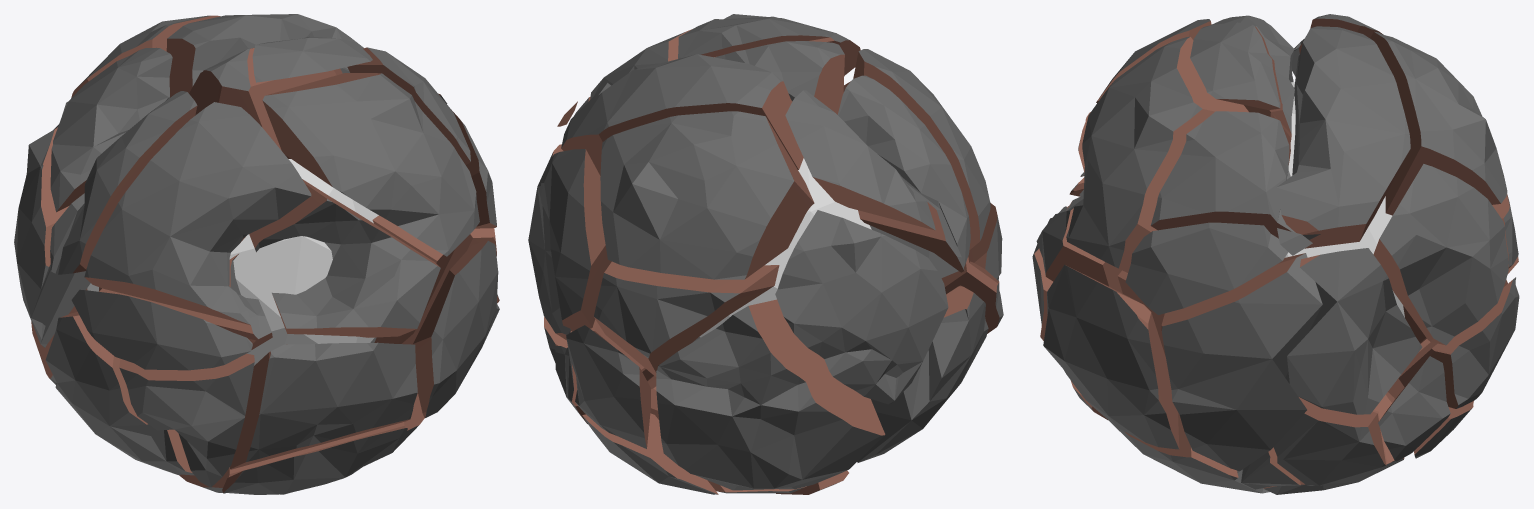
File: BreakingPlalet.dae
3 views of the same model, side by side, from view 1: azimuth 30°, elevation 25°; view 2: azimuth 150°, elevation 25°; view 3: azimuth 270°, elevation 25° (orthographic). The views are drawn at different scales.
Visible parts, largest first — view 1: Icosphere_003_cell_006, Icosphere_003_cell_008, Icosphere_003_cell_003, Icosphere_003_cell_011, Icosphere_003_cell_021, Icosphere_001_cell_008, Icosphere_003_cell_009, Icosphere_003_cell_020, Icosphere_003_cell_015, Icosphere, Icosphere_001_cell_002, Icosphere_003_cell_004 (+12 smaller); view 2: Icosphere_001_cell_010, Icosphere_001_cell_017, Icosphere_001_cell_002, Icosphere_001_cell_019, Icosphere_001_cell_015, Icosphere_003_cell_004, Icosphere_001_cell_008, Icosphere_001_cell_013, Icosphere_003_cell_009, Icosphere_001_cell_020, Icosphere_003_cell_006, Icosphere_003_cell_017 (+11 smaller); view 3: Icosphere_003_cell_019, Icosphere_001_cell_019, Icosphere_003_cell_008, Icosphere_001_cell_013, Icosphere_003_cell_020, Icosphere_001_cell_022, Icosphere_003_cell_002, Icosphere_001_cell_017, Icosphere_003_cell_001, Icosphere_001_cell_004, Icosphere_003_cell_018, Icosphere_001_cell_020 (+15 smaller).
Part boxes in pixels (left/top/right/bottom): Icosphere_003_cell_006: left=84, top=102, right=311, bottom=325; Icosphere_003_cell_008: left=262, top=73, right=479, bottom=256; Icosphere_003_cell_003: left=230, top=342, right=417, bottom=469; Icosphere_003_cell_011: left=249, top=179, right=440, bottom=337; Icosphere_003_cell_021: left=119, top=353, right=254, bottom=487; Icosphere_001_cell_008: left=50, top=47, right=172, bottom=212; Icosphere_003_cell_009: left=45, top=312, right=194, bottom=475; Icosphere_003_cell_020: left=413, top=240, right=499, bottom=417; Icosphere_003_cell_015: left=71, top=289, right=252, bottom=370; Icosphere: left=87, top=159, right=378, bottom=365; Icosphere_001_cell_002: left=14, top=124, right=90, bottom=347; Icosphere_003_cell_004: left=58, top=91, right=197, bottom=274; Icosphere_001_cell_010: left=656, top=299, right=885, bottom=490; Icosphere_001_cell_017: left=600, top=111, right=814, bottom=279; Icosphere_001_cell_002: left=775, top=210, right=948, bottom=404; Icosphere_001_cell_019: left=561, top=54, right=803, bottom=175; Icosphere_001_cell_015: left=593, top=261, right=779, bottom=376; Icosphere_003_cell_004: left=837, top=75, right=970, bottom=278; Icosphere_001_cell_008: left=785, top=90, right=935, bottom=230; Icosphere_001_cell_013: left=541, top=149, right=611, bottom=331; Icosphere_003_cell_009: left=857, top=285, right=988, bottom=462; Icosphere_001_cell_020: left=566, top=325, right=650, bottom=448; Icosphere_003_cell_006: left=853, top=49, right=990, bottom=249; Icosphere_003_cell_017: left=715, top=41, right=844, bottom=114; Icosphere_003_cell_019: left=1161, top=253, right=1322, bottom=471; Icosphere_001_cell_019: left=1276, top=26, right=1410, bottom=248; Icosphere_003_cell_008: left=1066, top=36, right=1248, bottom=272; Icosphere_001_cell_013: left=1373, top=164, right=1508, bottom=345; Icosphere_003_cell_020: left=1043, top=264, right=1179, bottom=449; Icosphere_001_cell_022: left=1285, top=248, right=1422, bottom=414; Icosphere_003_cell_002: left=1150, top=111, right=1295, bottom=238; Icosphere_001_cell_017: left=1370, top=31, right=1507, bottom=215; Icosphere_003_cell_001: left=1125, top=222, right=1288, bottom=314; Icosphere_001_cell_004: left=1273, top=397, right=1386, bottom=485; Icosphere_003_cell_018: left=1190, top=22, right=1280, bottom=109; Icosphere_001_cell_020: left=1398, top=277, right=1519, bottom=408.
Bounding box in the file's own units: 1.98 × 1.98 × 1.98.
